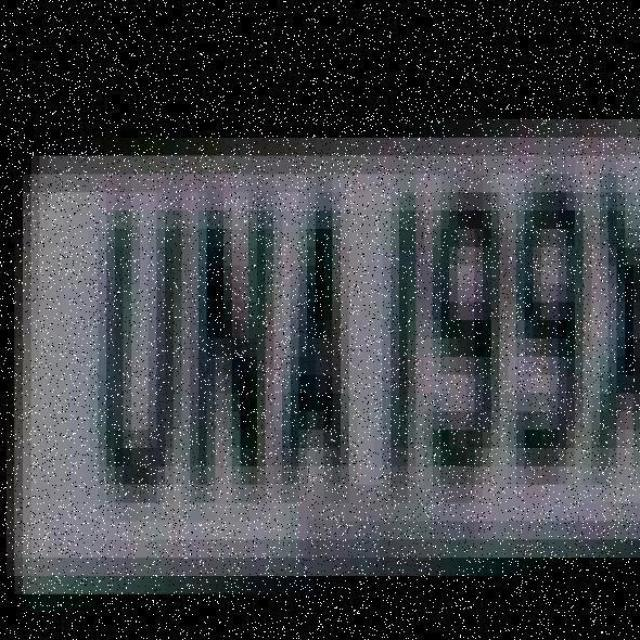license-plate: (3, 56, 631, 640)
